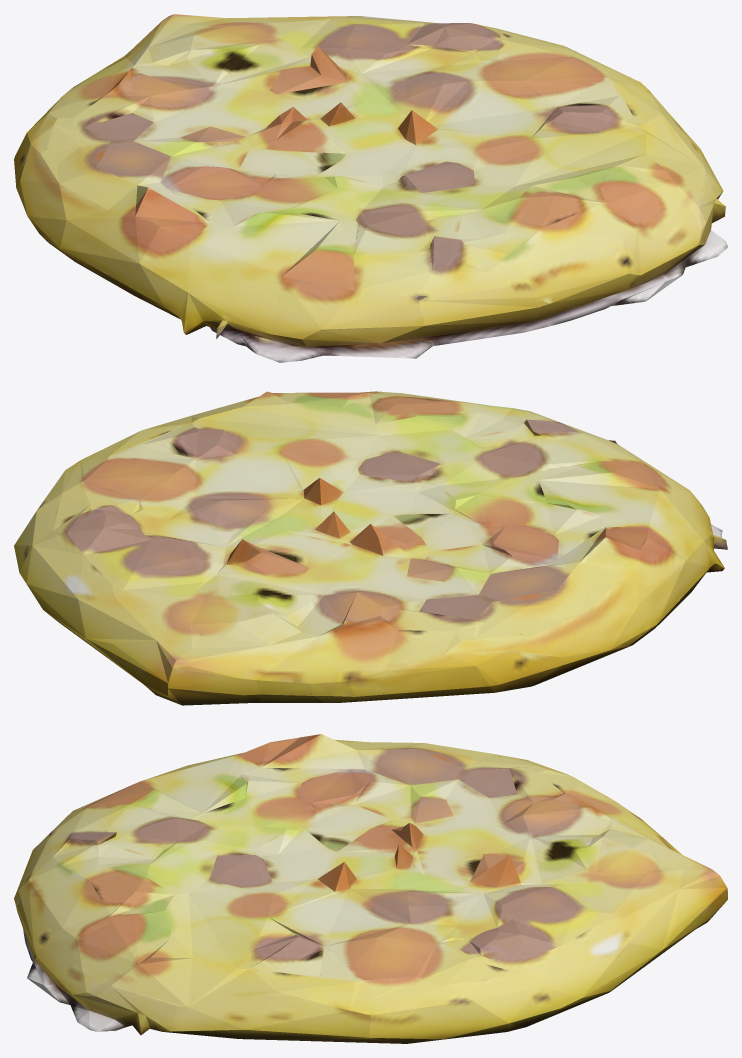
The model's file is pizza.glb.
3 views of the same model, one above another, from view 1: azimuth 30°, elevation 25°; view 2: azimuth 150°, elevation 25°; view 3: azimuth 270°, elevation 25° (orthographic). The views are drawn at different scales.
Visible parts, largest first — view 1: world; view 2: world; view 3: world.
Part boxes in pixels (x1,y1,x2,y2): world: [14, 14, 727, 362]; world: [14, 391, 727, 705]; world: [14, 734, 727, 1043].
Size of the model in its own units: 0.923 by 0.1344 by 0.9936.
Materials: 1 (1 with a texture image).
